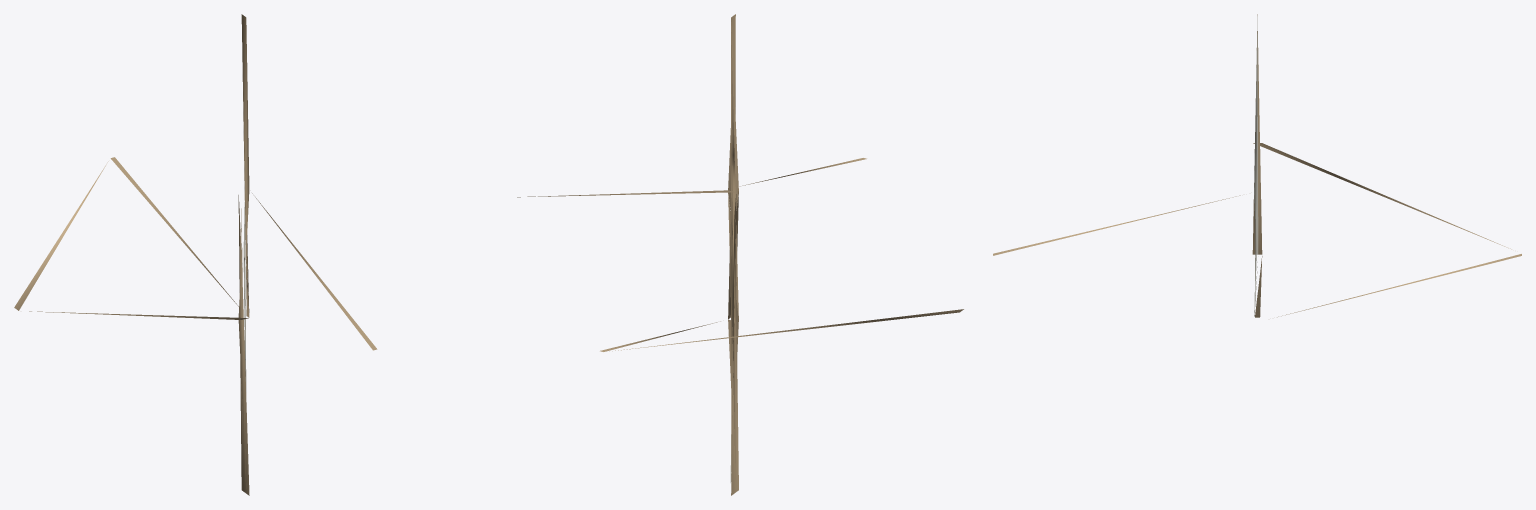
The model's file is equip_weapon_shortbow.glb.
3 renders of one model, left to right at view 1: azimuth 30°, elevation 25°; view 2: azimuth 150°, elevation 25°; view 3: azimuth 270°, elevation 25°, orthographic.
Parts seen in each view (by area): view 1: equip_weapon_shortbow; view 2: equip_weapon_shortbow; view 3: equip_weapon_shortbow.
Boxes of the visible parts, x1,y1,x2,y2 form: equip_weapon_shortbow: (14,14,377,495); equip_weapon_shortbow: (517,14,963,495); equip_weapon_shortbow: (993,14,1521,317).
Size of the model in its own units: 2 by 2 by 2.
